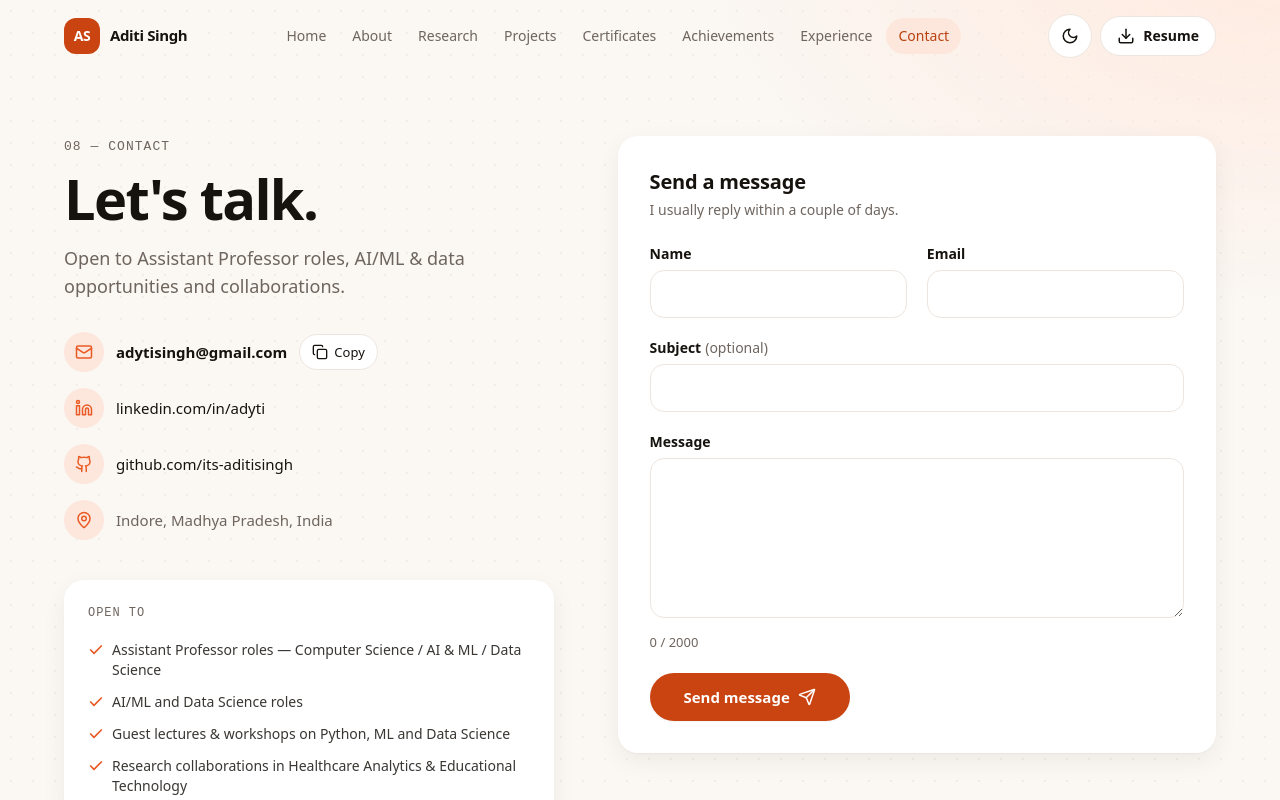
it: Contact form (docs/03-features/07-contact.md) › ignores a second submit while sending
This screenshot has width=1280, height=800.
Type "Priya Sharma" into the field labelled "Name" at (778, 294), box [650,270,907,318]
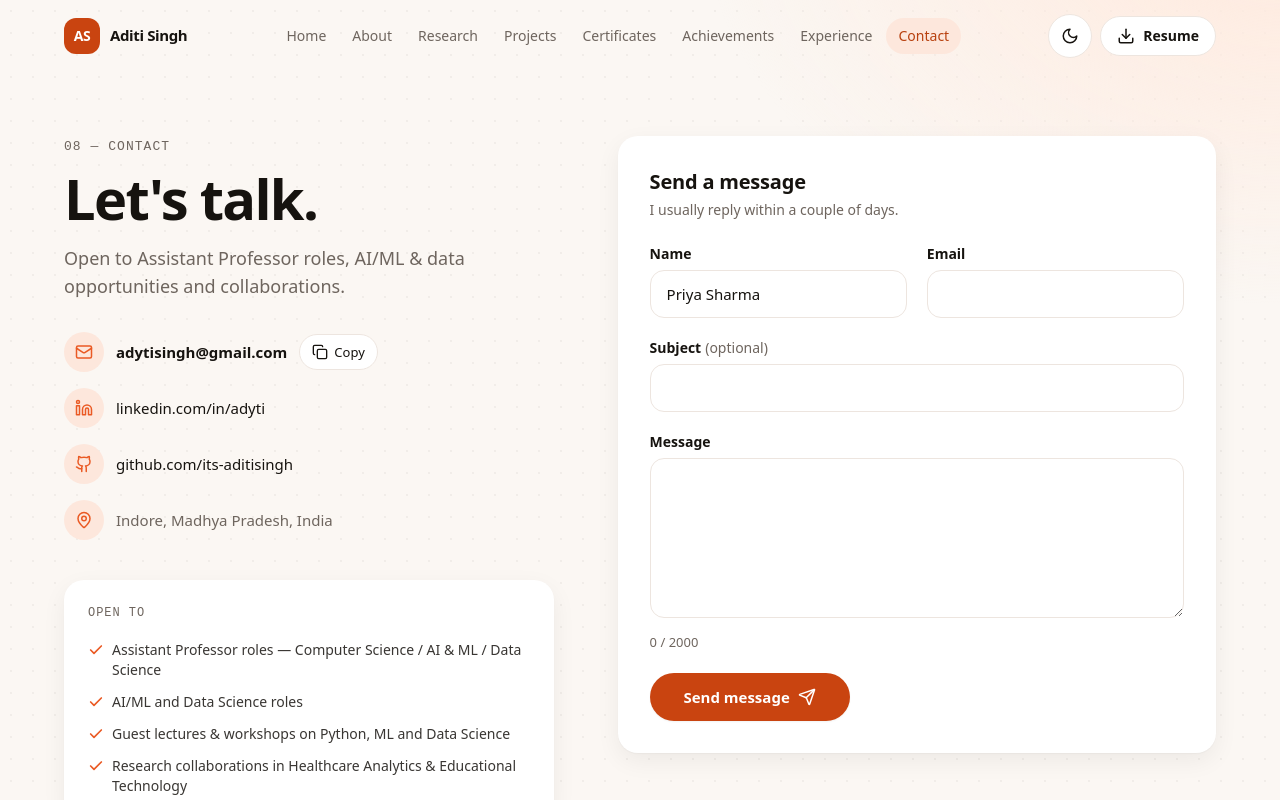
Type "priya@example.edu" into the field labelled "Email" at (1055, 294), box [927,270,1184,318]
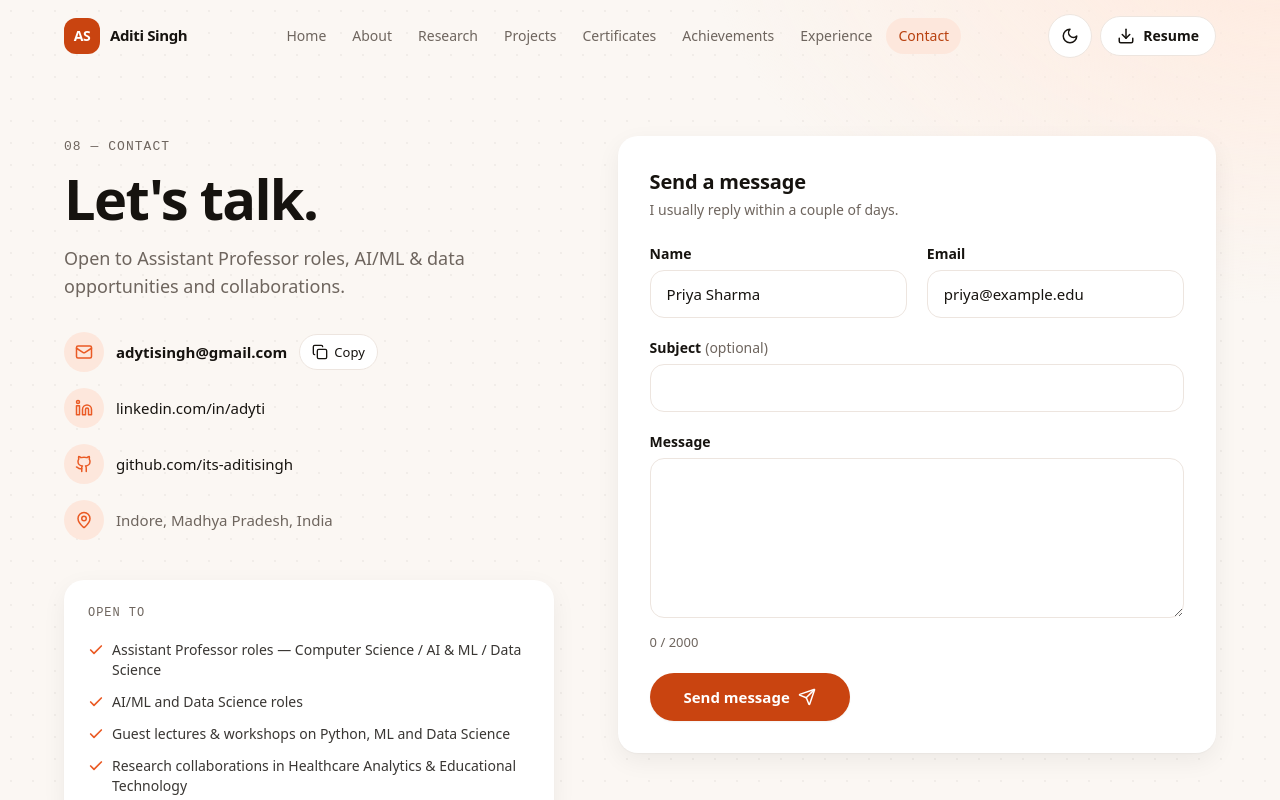
Type "Hello! We have an opening." into the text box labelled "Message" at (917, 538), box [650,458,1184,618]
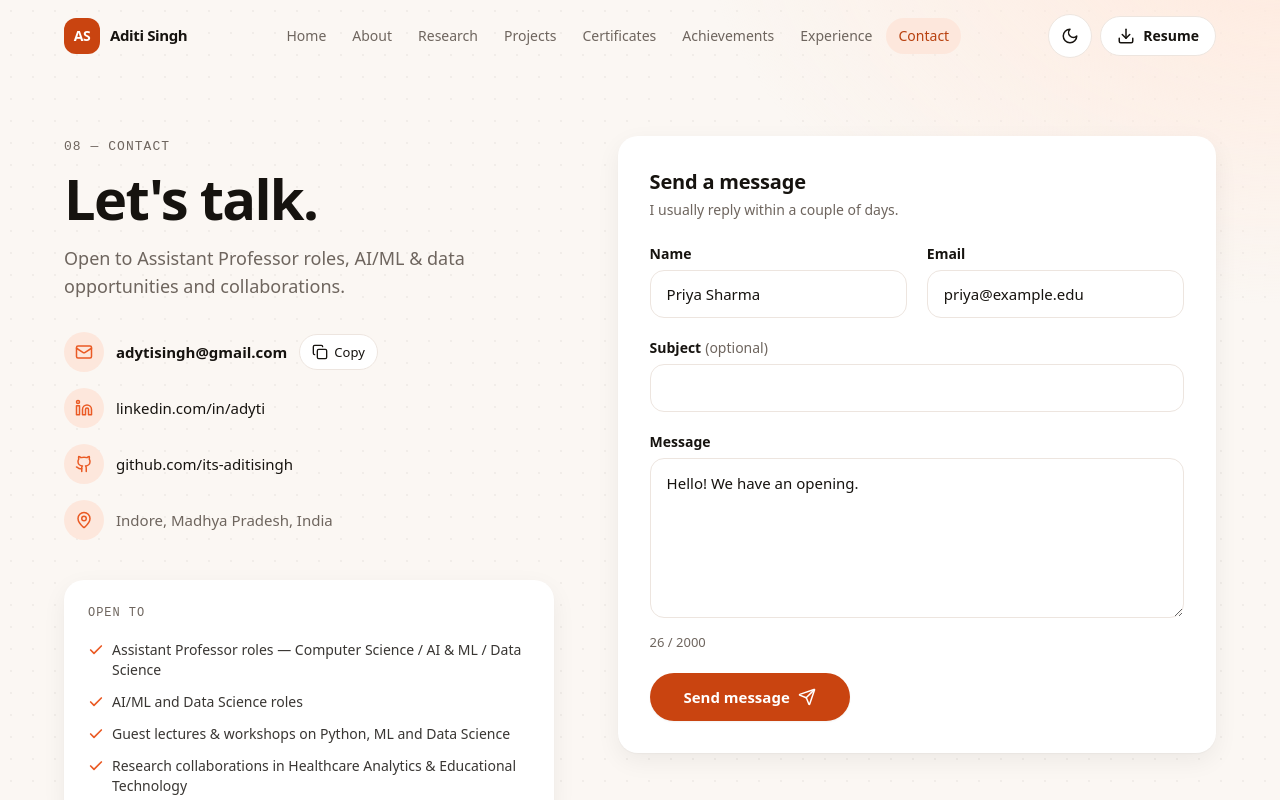
Click the button "Send message" at (750, 698), box [650,674,850,722]
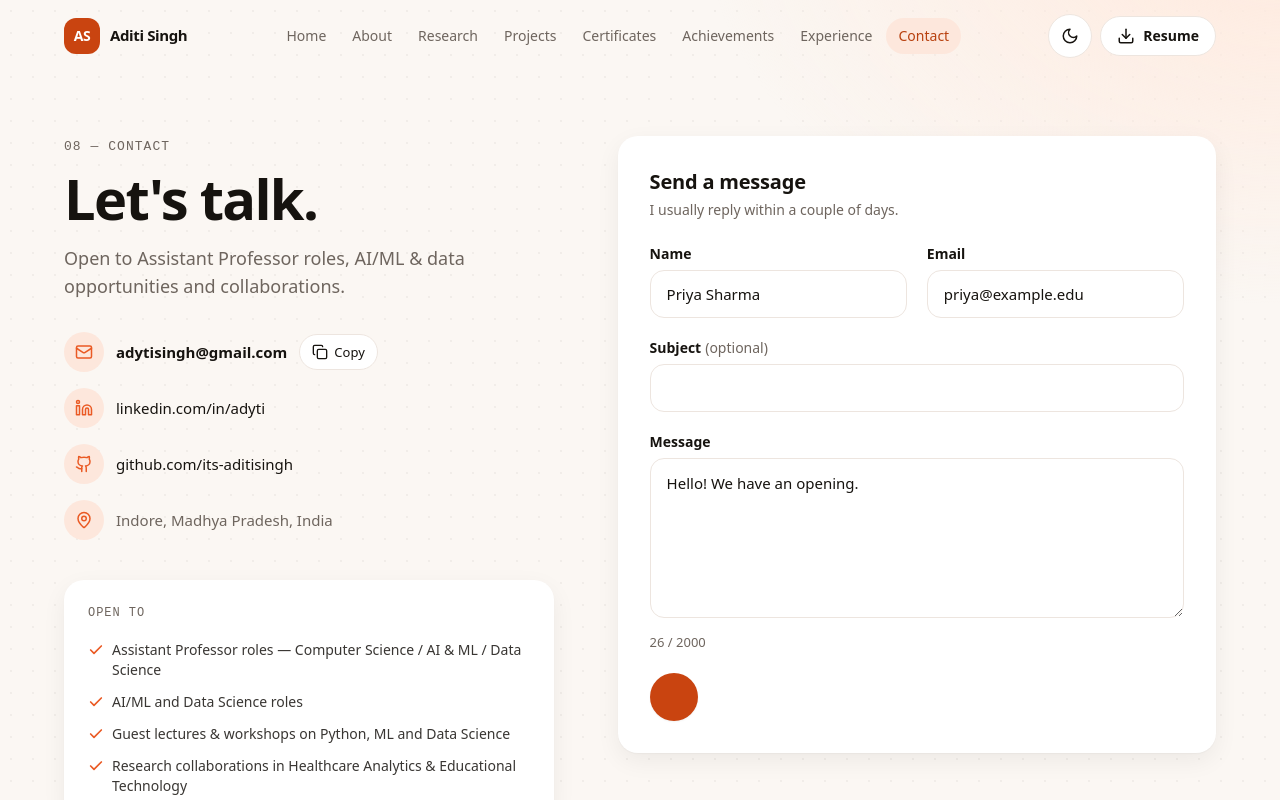
Now the button named "sending" is disabled, box [650,674,698,722]
Submit the form named "Contact form", box [650,244,1184,722]
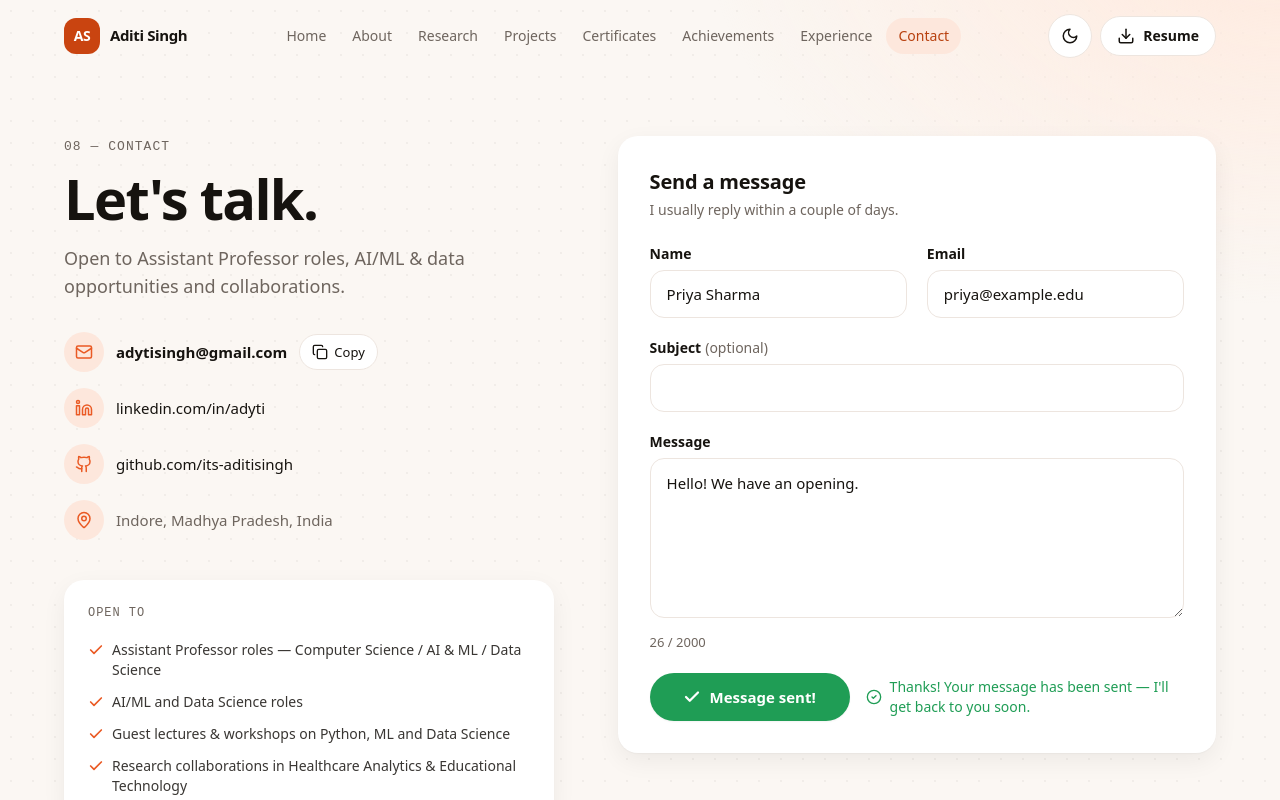
Now the button "Message sent!" is shown, box [650,674,850,722]
